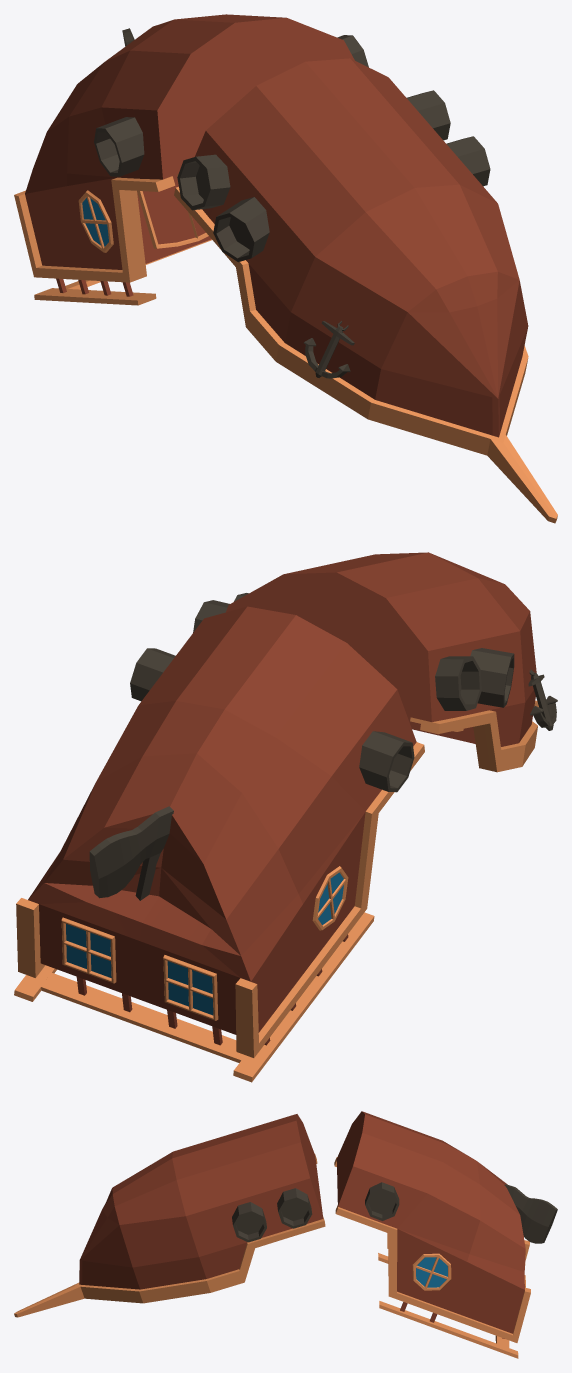
Rendered from Broken_Ship_Model_No_Props.fbx.
3 views of the same model, one above another, from view 1: azimuth 30°, elevation 25°; view 2: azimuth 150°, elevation 25°; view 3: azimuth 270°, elevation 25° (orthographic). The views are drawn at different scales.
Parts seen in each view (by area): view 1: polySurface76; view 2: polySurface76; view 3: polySurface76.
Boxes of the visible parts, box(x1,y1,x2,y2) form: polySurface76: box(14, 14, 557, 523); polySurface76: box(14, 552, 557, 1082); polySurface76: box(14, 1111, 557, 1358).
Bounding box in the file's own units: 7.87 × 9.69 × 22.06.
